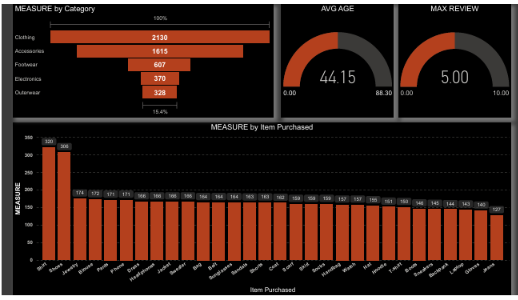

This screenshot's page, from the dashboard's own definition file:
{"tool":"powerbi","page":{"name":"Page 2","canvas":[1280,720],"ordinal":1},"visuals":[{"type":"gauge","fields":{"Y":["customer_shopping_behavior.Measure"]},"box":[693,0,279.1,280.2],"z":0},{"type":"gauge","title":"MAX REVIEW","fields":{"Y":["customer_shopping_behavior.Max Review"]},"box":[982.6,0,279.1,281.4],"z":1000},{"type":"lineClusteredColumnComboChart","fields":{"Y":["customer_shopping_behavior.MEASURE"],"Category":["customer_shopping_behavior.Item Purchased"]},"box":[27.9,294.2,1233.7,425.6],"z":2000},{"type":"funnel","fields":{"Category":["customer_shopping_behavior.Category"],"Y":["customer_shopping_behavior.MEASURE"]},"box":[27.9,0,645.4,280.2],"z":3000}]}

Visuals, with their boxes in screenshot pixels (x1, y1, x2, y2), scaled from the page's 1280x720 canvas onto the 518x300 screenshot:
gauge - customer_shopping_behavior.Measure: (280, 0, 393, 117)
"MAX REVIEW" gauge: (398, 0, 511, 117)
lineClusteredColumnComboChart - customer_shopping_behavior.MEASURE x customer_shopping_behavior.Item Purchased: (11, 123, 511, 299)
funnel - customer_shopping_behavior.Category x customer_shopping_behavior.MEASURE: (11, 0, 272, 117)
